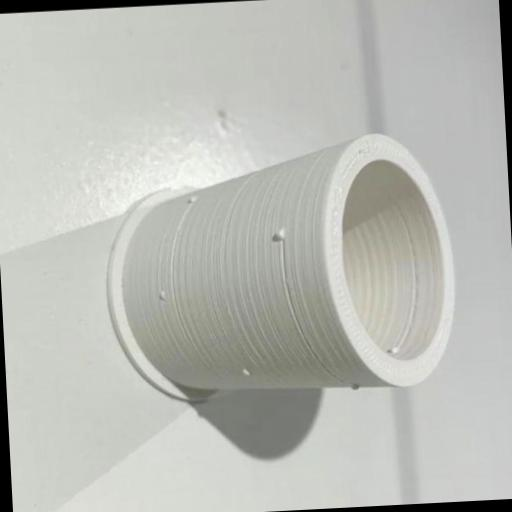blobs: (272, 226, 290, 245), (237, 364, 255, 380), (183, 192, 198, 210), (346, 378, 362, 394), (154, 288, 168, 302), (386, 344, 402, 356)
